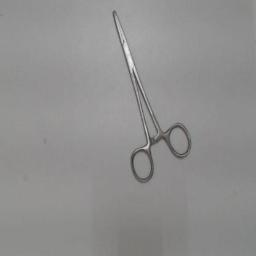Mayo Needle Holder: (106, 5, 198, 187)
